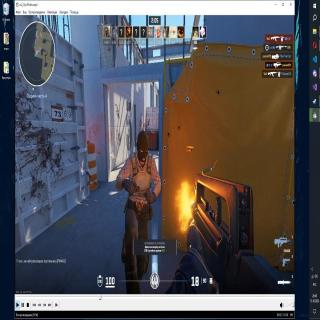T-Body: (117, 134, 163, 283)
T-Head: (133, 130, 153, 163)
